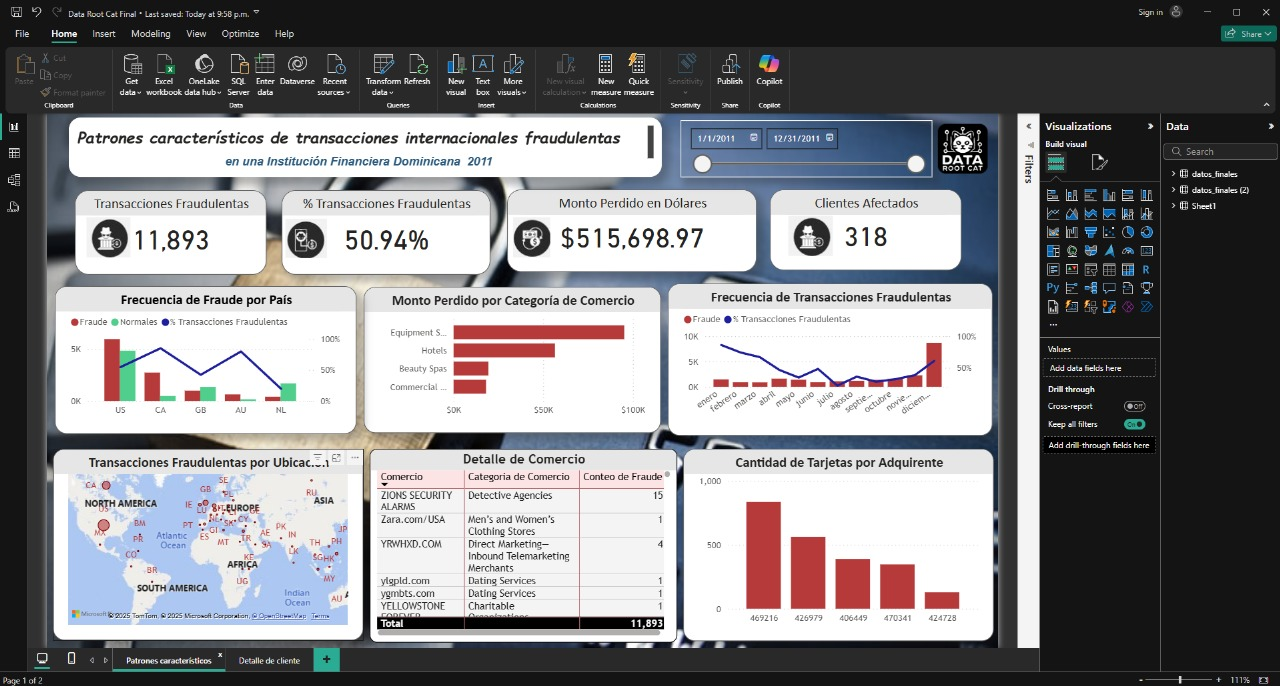

What the dashboard file says about the page in this screenshot:
{"tool":"powerbi","page":{"name":"Patrones característicos","canvas":[1280,720],"ordinal":0},"visuals":[{"type":"textbox","box":[448.1,360.2,390.6,33.6],"z":0},{"type":"card","title":"Transacciones Fraudulentas","fields":{"Values":["datos_finales.Fraud Count"]},"box":[38,103.1,258.2,113.9],"z":1000},{"type":"card","title":"% Transacciones Fraudulentas","fields":{"Values":["datos_finales.tasa_de_fraude"]},"box":[315.8,103.1,281,113.9],"z":2000},{"type":"card","title":"Monto Perdido en Dólares","fields":{"Values":["Sum(datos_finales.Monto USD)"]},"box":[619.6,102,336.4,110.7],"z":3000},{"type":"map","title":"Transacciones Fraudulentas por Ubicación","fields":{"Category":["datos_finales.Codigo_Pais"],"Size":["CountNonNull(datos_finales.Estado)"]},"box":[8,451.6,418.4,258.5],"z":4000},{"type":"barChart","title":"Monto Perdido por Categoría de Comercio","fields":{"Category":["datos_finales.Categoria Comercio"],"Y":["Sum(datos_finales.Monto USD)"]},"box":[426.4,233.3,400.4,197.5],"z":5000},{"type":"lineClusteredColumnComboChart","title":"Frecuencia de Transacciones Fraudulentas","fields":{"Category":["datos_finales.Fecha.Variación.Jerarquía de fechas.Mes"],"Y":["CountNonNull(datos_finales.Estado)"],"Y2":["datos_finales.tasa_de_fraude"]},"box":[835.5,228.9,437.3,205.1],"z":6000},{"type":"tableEx","title":"Detalle de Comercio","fields":{"Values":["datos_finales.Comercio","datos_finales.Categoria Comercio","datos_finales.Fraud Count"]},"box":[434.2,451.7,413.9,260.8],"z":7000},{"type":"columnChart","title":"Cantidad de Tarjetas por Adquirente","fields":{"Category":["datos_finales.Adquirente"],"Y":["Count(datos_finales.Número de Tarjeta)"]},"box":[856.6,451.2,418.3,259.3],"z":8000},{"type":"lineClusteredColumnComboChart","title":"Frecuencia de Fraude por País","fields":{"Category":["datos_finales.Codigo_Pais"],"Y":["datos_finales.Fraud Count","datos_finales.Not Fraud Count"],"Y2":["datos_finales.tasa_de_fraude"]},"box":[10.9,232.2,405.8,198.6],"z":9000},{"type":"slicer","fields":{"Values":["datos_finales.Fecha"]},"box":[852.9,9.1,338.9,77.4],"z":10000},{"type":"image","box":[1191.8,9.1,80.5,77.4],"z":11000},{"type":"image","box":[48.7,134.6,68.8,64.5],"z":12000},{"type":"image","box":[315.8,125.9,66.2,84.6],"z":13000},{"type":"image","box":[619.6,134.5,66.2,64],"z":14000},{"type":"card","title":"Clientes Afectados","fields":{"Values":["Count(datos_finales.Adquirente)"]},"box":[973.3,102,258.2,108.5],"z":15000},{"type":"textbox","box":[29.3,5.4,797.5,80.3],"z":16000},{"type":"image","box":[992.6,133.2,70.2,64.5],"z":17000}]}

Visuals, with their boxes on the page's 1280x720 design canvas (x1, y1, x2, y2). These are canvas units, not pixel positions in the 1280x686 screenshot, which may show the page scaled, cropped or inside an application window:
textbox: (448,360,839,394)
"Transacciones Fraudulentas" card: (38,103,296,217)
"% Transacciones Fraudulentas" card: (316,103,597,217)
"Monto Perdido en Dólares" card: (620,102,956,213)
"Transacciones Fraudulentas por Ubicación" map: (8,452,426,710)
"Monto Perdido por Categoría de Comercio" barChart: (426,233,827,431)
"Frecuencia de Transacciones Fraudulentas" lineClusteredColumnComboChart: (836,229,1273,434)
"Detalle de Comercio" tableEx: (434,452,848,712)
"Cantidad de Tarjetas por Adquirente" columnChart: (857,451,1275,710)
"Frecuencia de Fraude por País" lineClusteredColumnComboChart: (11,232,417,431)
slicer - datos_finales.Fecha: (853,9,1192,86)
image: (1192,9,1272,86)
image: (49,135,118,199)
image: (316,126,382,210)
image: (620,134,686,198)
"Clientes Afectados" card: (973,102,1232,210)
textbox: (29,5,827,86)
image: (993,133,1063,198)
